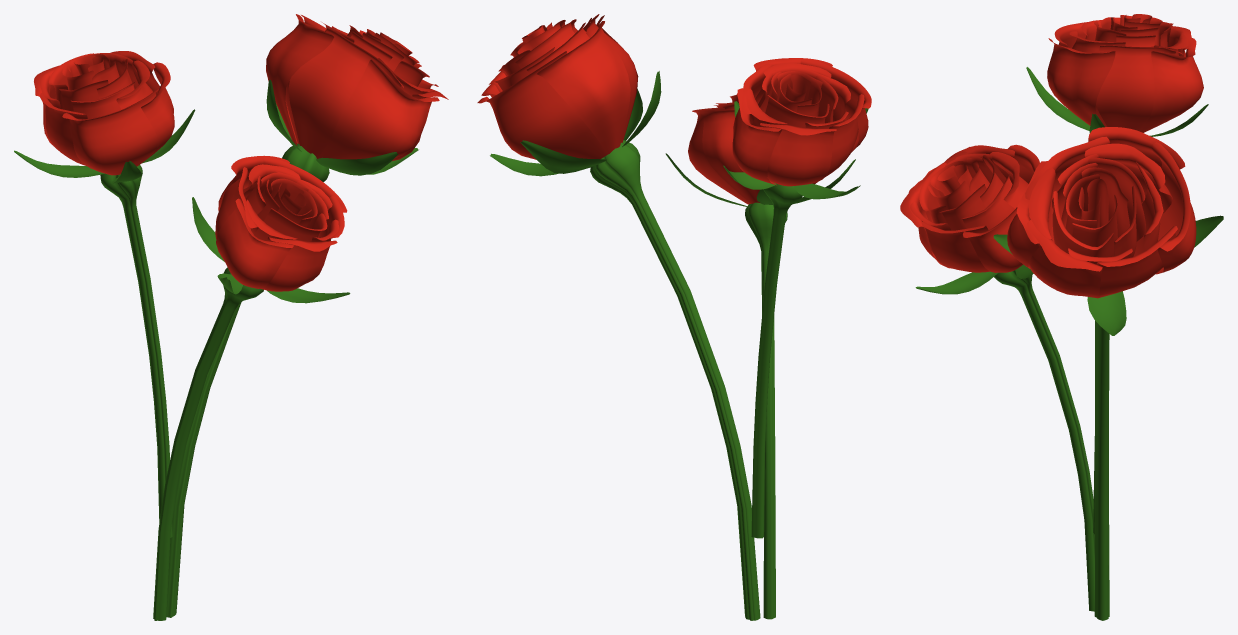
The model's file is Torch_roses.fbx.
3 views of the same model, side by side, from view 1: azimuth 30°, elevation 25°; view 2: azimuth 150°, elevation 25°; view 3: azimuth 270°, elevation 25° (orthographic). The views are drawn at different scales.
Visible parts, largest first — view 1: roses, stems; view 2: roses, stems; view 3: roses, stems.
Part boxes in pixels (left/top/right/bottom): roses: left=34, top=14, right=448, bottom=291; stems: left=14, top=79, right=418, bottom=620; roses: left=477, top=14, right=871, bottom=204; stems: left=490, top=71, right=868, bottom=620; roses: left=900, top=14, right=1203, bottom=298; stems: left=915, top=67, right=1223, bottom=620.
Bounding box in the file's own units: 211 × 290 × 149.
